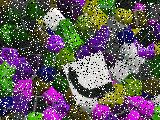Right: (63, 52, 115, 104)
